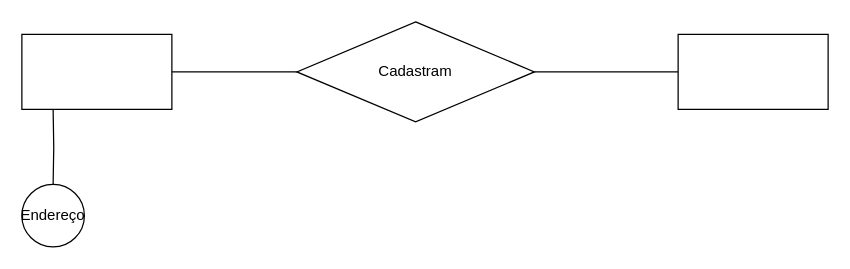
This 850x269 diagram has some shape labels left out. The shapes that lost their labels are listed below. From the top down, each one's centre as x and y in pixels, then its label:
At (x=96, y=71): "Clínicas".
At (x=752, y=71): "Veterinários".
